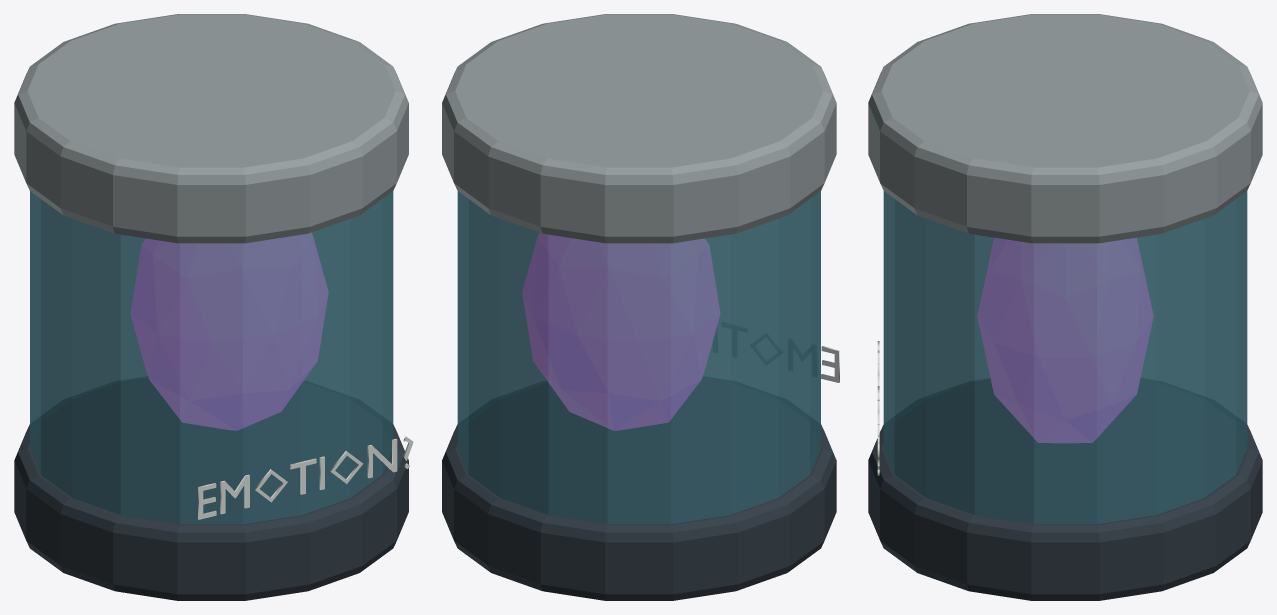
Rendered from Find_UnscheduledEmotion.glb.
3 views of the same model, side by side, from view 1: azimuth 30°, elevation 25°; view 2: azimuth 150°, elevation 25°; view 3: azimuth 270°, elevation 25° (orthographic).
Parts seen in each view (by area): view 1: Find_UnscheduledEmotion, Find_UnscheduledEmotion_Lid, Find_UnscheduledEmotion_Base, Find_UnscheduledEmotion_Contents, Find_UnscheduledEmotion_Label; view 2: Find_UnscheduledEmotion, Find_UnscheduledEmotion_Lid, Find_UnscheduledEmotion_Base, Find_UnscheduledEmotion_Contents; view 3: Find_UnscheduledEmotion, Find_UnscheduledEmotion_Lid, Find_UnscheduledEmotion_Base, Find_UnscheduledEmotion_Contents.
Part boxes in pixels (left/top/right/bottom): Find_UnscheduledEmotion: left=30, top=191, right=393, bottom=524; Find_UnscheduledEmotion_Lid: left=14, top=14, right=408, bottom=243; Find_UnscheduledEmotion_Base: left=14, top=378, right=408, bottom=600; Find_UnscheduledEmotion_Contents: left=131, top=233, right=328, bottom=430; Find_UnscheduledEmotion_Label: left=198, top=436, right=413, bottom=519; Find_UnscheduledEmotion: left=457, top=191, right=820, bottom=524; Find_UnscheduledEmotion_Lid: left=442, top=14, right=836, bottom=243; Find_UnscheduledEmotion_Base: left=442, top=378, right=836, bottom=600; Find_UnscheduledEmotion_Contents: left=522, top=233, right=719, bottom=430; Find_UnscheduledEmotion: left=883, top=191, right=1247, bottom=524; Find_UnscheduledEmotion_Lid: left=868, top=14, right=1262, bottom=243; Find_UnscheduledEmotion_Base: left=868, top=380, right=1262, bottom=600; Find_UnscheduledEmotion_Contents: left=977, top=238, right=1153, bottom=442.
Bounding box in the file's own units: 0.7485 × 0.92 × 0.76.
